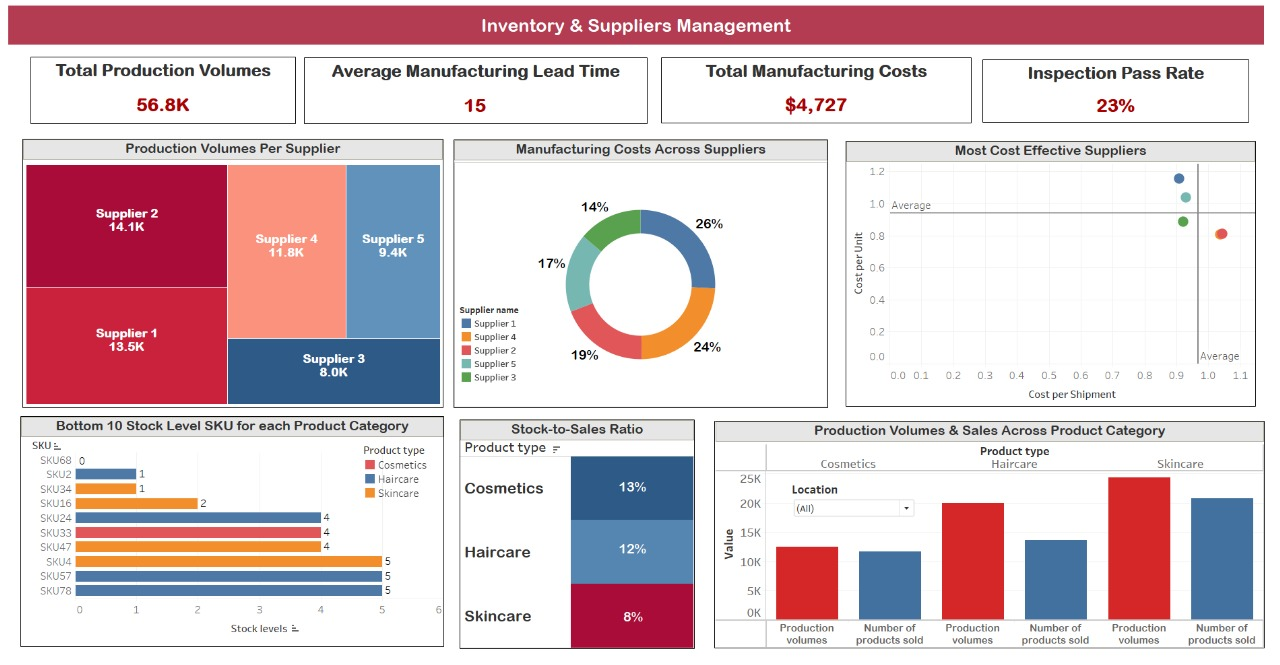

Layout of this report page (visuals, bound fields, positions):
{"tool":"tableau","page":{"name":"Inventory & Suppliers Management","canvas":[1000,1000],"units":"permille","ordinal":1},"visuals":[{"type":"text","box":[6,12.5,971,58.7]},{"type":"worksheet","title":"Average Manufacturing Lead Time","mark":"Automatic","box":[246.8,88.6,267.4,96.1]},{"type":"worksheet","title":"Total Production Volumes","mark":"Automatic","box":[27.8,89.9,211.8,96.1]},{"type":"worksheet","title":"Total Manufacturing Costs","mark":"Automatic","box":[516.6,89.9,240.2,93.6]},{"type":"worksheet","title":"Inspection Pass Rate","mark":"Automatic","box":[761,89.9,205.8,94.9]},{"type":"worksheet","title":"Production Volumes Per Supplier","mark":"Automatic","box":[17,211,325.7,403.2]},{"type":"worksheet","title":"Manufacturing Costs Across Suppliers","mark":"Pie","rows":["Calculation_2088544387814285314","Calculation_2088544387814297604"],"box":[350.6,212.2,289.7,402]},{"type":"worksheet","title":"Most Cost Effective Suppliers","mark":"Automatic","rows":["Calculation_1368812870250000387"],"cols":["Calculation_1368812870256603140"],"box":[653.8,214.7,323.4,398.2]},{"type":"legend","title":"Manufacturing Costs Across Suppliers","param":"[federated.08ssd4x013gij215j9kym1rdqcrj].[sum:Manufacturing costs:qk]","box":[749.6,263.4,107.4,69.9]},{"type":"legend","title":"Manufacturing Costs Across Suppliers","param":"[federated.08ssd4x013gij215j9kym1rdqcrj].[none:Supplier name:nk]","box":[355,458.2,84.4,166]},{"type":"worksheet","title":"Bottom 10 Stock Level SKU for each Product Category","mark":"Automatic","rows":["SKU"],"cols":["Stock levels"],"box":[15.7,626.7,327.7,345.8]},{"type":"worksheet","title":"Stock-to-Sales Ratio","mark":"Square","rows":["Product type"],"box":[355.5,631.7,181.7,343.3]},{"type":"worksheet","title":"Production Volumes & Sales Across Product Category","mark":"Bar","cols":["Product type"],"box":[552.2,633,425.5,340.8]},{"type":"legend","title":"Bottom 10 Stock Level SKU for each Product Category","param":"[federated.08ssd4x013gij215j9kym1rdqcrj].[none:Product type:nk]","box":[280.6,666.7,68,106.1]},{"type":"filter","title":"Production Volumes & Sales Across Product Category","param":"[federated.08ssd4x013gij215j9kym1rdqcrj].[none:Location:nk]","box":[612,724.1,96.6,64.9]}]}

Visuals, with their boxes on the dashboard's canvas, which has no fixed pixel size, in thousandths of its width and height (x1, y1, x2, y2). These are canvas units, not pixel positions in the 1280x665 screenshot, which may show the page scaled, cropped or inside an application window:
text: crop(6, 12, 977, 71)
"Average Manufacturing Lead Time" worksheet: crop(247, 89, 514, 185)
"Total Production Volumes" worksheet: crop(28, 90, 240, 186)
"Total Manufacturing Costs" worksheet: crop(517, 90, 757, 184)
"Inspection Pass Rate" worksheet: crop(761, 90, 967, 185)
"Production Volumes Per Supplier" worksheet: crop(17, 211, 343, 614)
"Manufacturing Costs Across Suppliers" worksheet (Pie marks): crop(351, 212, 640, 614)
"Most Cost Effective Suppliers" worksheet: crop(654, 215, 977, 613)
"Manufacturing Costs Across Suppliers" legend: crop(750, 263, 857, 333)
"Manufacturing Costs Across Suppliers" legend: crop(355, 458, 439, 624)
"Bottom 10 Stock Level SKU for each Product Category" worksheet: crop(16, 627, 343, 972)
"Stock-to-Sales Ratio" worksheet (Square marks): crop(356, 632, 537, 975)
"Production Volumes & Sales Across Product Category" worksheet (Bar marks): crop(552, 633, 978, 974)
"Bottom 10 Stock Level SKU for each Product Category" legend: crop(281, 667, 349, 773)
"Production Volumes & Sales Across Product Category" filter: crop(612, 724, 709, 789)
